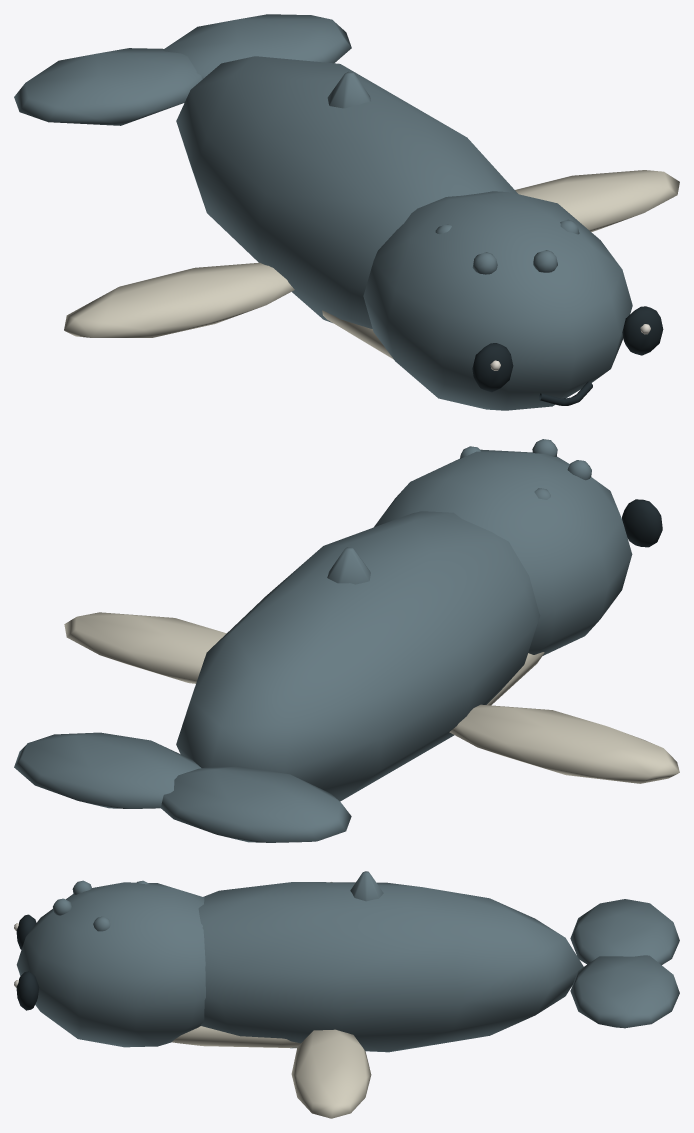
The model's file is org_humpback.glb.
3 views of the same model, one above another, from view 1: azimuth 30°, elevation 25°; view 2: azimuth 150°, elevation 25°; view 3: azimuth 270°, elevation 25° (orthographic). The views are drawn at different scales.
Parts seen in each view (by area): view 1: Body, Head, Tail, Fin_R, Fin_L, Eye_L, Eye_R; view 2: Body, Head, Tail, Fin_R, Fin_L, Eye_R; view 3: Body, Head, Tail, Fin_L, Eye_L, Eye_R.
Part boxes in pixels (box(x1,y1,x2,y2)): Body: box(176, 56, 518, 359); Head: box(363, 191, 632, 410); Tail: box(14, 14, 351, 125); Fin_R: box(64, 262, 294, 337); Fin_L: box(515, 170, 679, 231); Eye_L: box(622, 306, 663, 355); Eye_R: box(472, 343, 513, 392); Body: box(176, 511, 544, 801); Head: box(374, 439, 632, 655); Tail: box(14, 732, 351, 842); Fin_R: box(449, 704, 679, 783); Fin_L: box(64, 612, 226, 683); Eye_R: box(622, 499, 662, 547); Body: box(172, 871, 583, 1052); Head: box(16, 880, 205, 1047); Tail: box(570, 899, 679, 1028); Fin_L: box(291, 1029, 371, 1118); Eye_L: box(14, 971, 39, 1010); Eye_R: box(14, 914, 36, 949).
Bounding box in the file's own units: 2.9 × 0.9927 × 3.5.
